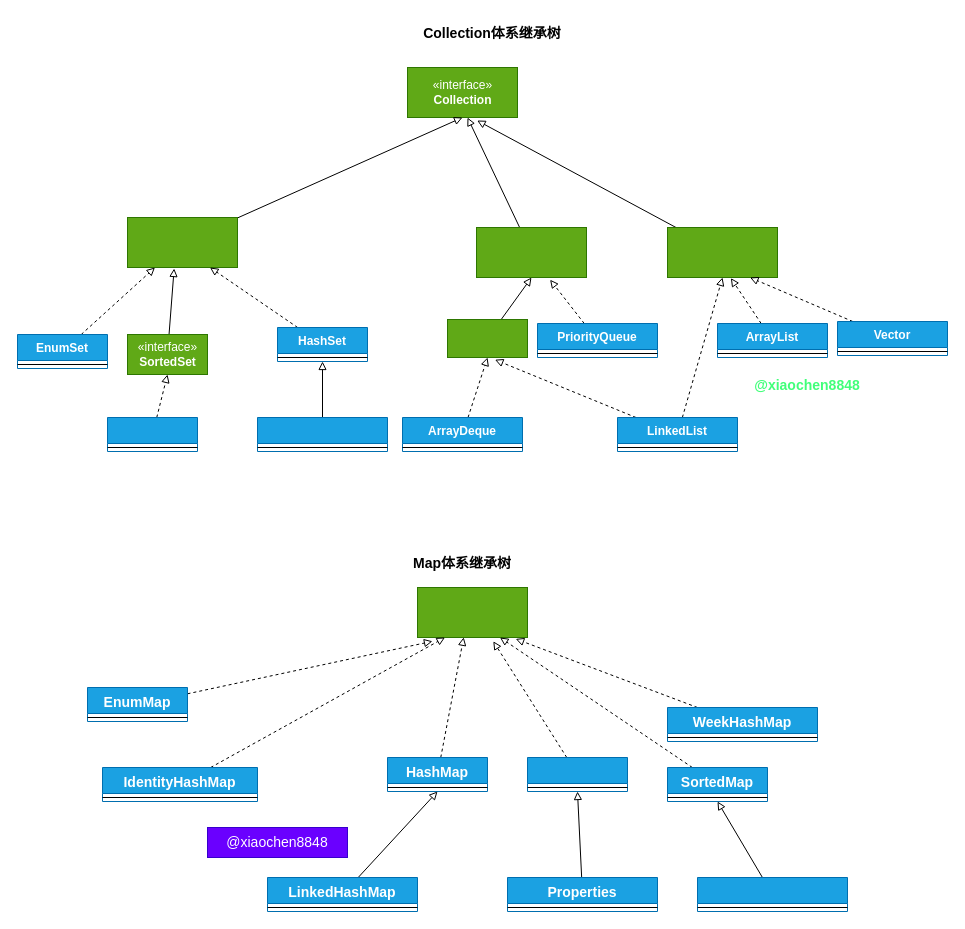
Some shapes in this 965 by 929 pixel diagram are drawn without their labels. Here are the shapes that lost their labels. From the top down, the centre of each, then its label:
(182,242): «interface» Set
(531,252): «interface» Queue
(722,252): «interface» List
(487,338): «interface» Deque
(152,434): TreeSet
(322,434): LinkedHashSet
(472,612): «interface» Map
(577,774): Hashtable
(772,894): TreeMap
